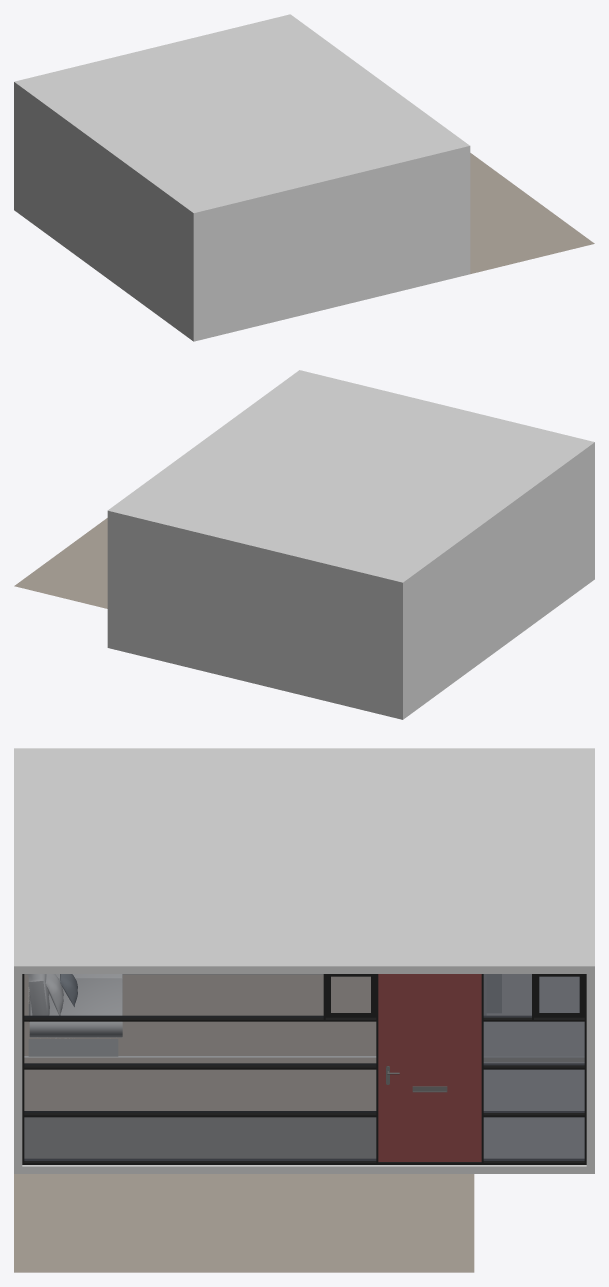
File: Basic_house.obj
3 views of the same model, one above another, from view 1: azimuth 30°, elevation 25°; view 2: azimuth 150°, elevation 25°; view 3: azimuth 270°, elevation 25° (orthographic). The views are drawn at different scales.
Parts seen in each view (by area): view 1: Mesh10 Group1 Model, Mesh19 Group9 Model, Mesh9 Group2 Group1 Model; view 2: Mesh10 Group1 Model, Mesh19 Group9 Model, Mesh9 Group2 Group1 Model; view 3: Mesh19 Group9 Model, Mesh10 Group1 Model, Mesh16 Group17 Group10 Group9 Model, Mesh18 Group10 Group9 Model, Mesh15 Group11 Group10 Group9 Model, Mesh21 Component_84_1 Group20 Group18 Model, Mesh20 Group19 Group18 Model, Mesh9 Group2 Group1 Model, Mesh25 Component_503_1 Group20 Group18 Model.
Boxes of the visible parts, bbox=[...] form: Mesh10 Group1 Model: bbox=[14, 48, 331, 341]; Mesh19 Group9 Model: bbox=[152, 14, 594, 307]; Mesh9 Group2 Group1 Model: bbox=[16, 88, 191, 334]; Mesh10 Group1 Model: bbox=[255, 406, 594, 719]; Mesh19 Group9 Model: bbox=[14, 370, 446, 683]; Mesh9 Group2 Group1 Model: bbox=[405, 465, 592, 712]; Mesh19 Group9 Model: bbox=[14, 857, 594, 1272]; Mesh10 Group1 Model: bbox=[14, 748, 594, 1057]; Mesh16 Group17 Group10 Group9 Model: bbox=[24, 974, 378, 1162]; Mesh18 Group10 Group9 Model: bbox=[22, 974, 586, 1164]; Mesh15 Group11 Group10 Group9 Model: bbox=[378, 974, 481, 1161]; Mesh21 Component_84_1 Group20 Group18 Model: bbox=[29, 978, 122, 1037]; Mesh20 Group19 Group18 Model: bbox=[28, 984, 118, 1056]; Mesh9 Group2 Group1 Model: bbox=[24, 974, 501, 1015]; Mesh25 Component_503_1 Group20 Group18 Model: bbox=[28, 974, 49, 1015].
Size of the model in its own units: 726 by 222 by 563.
